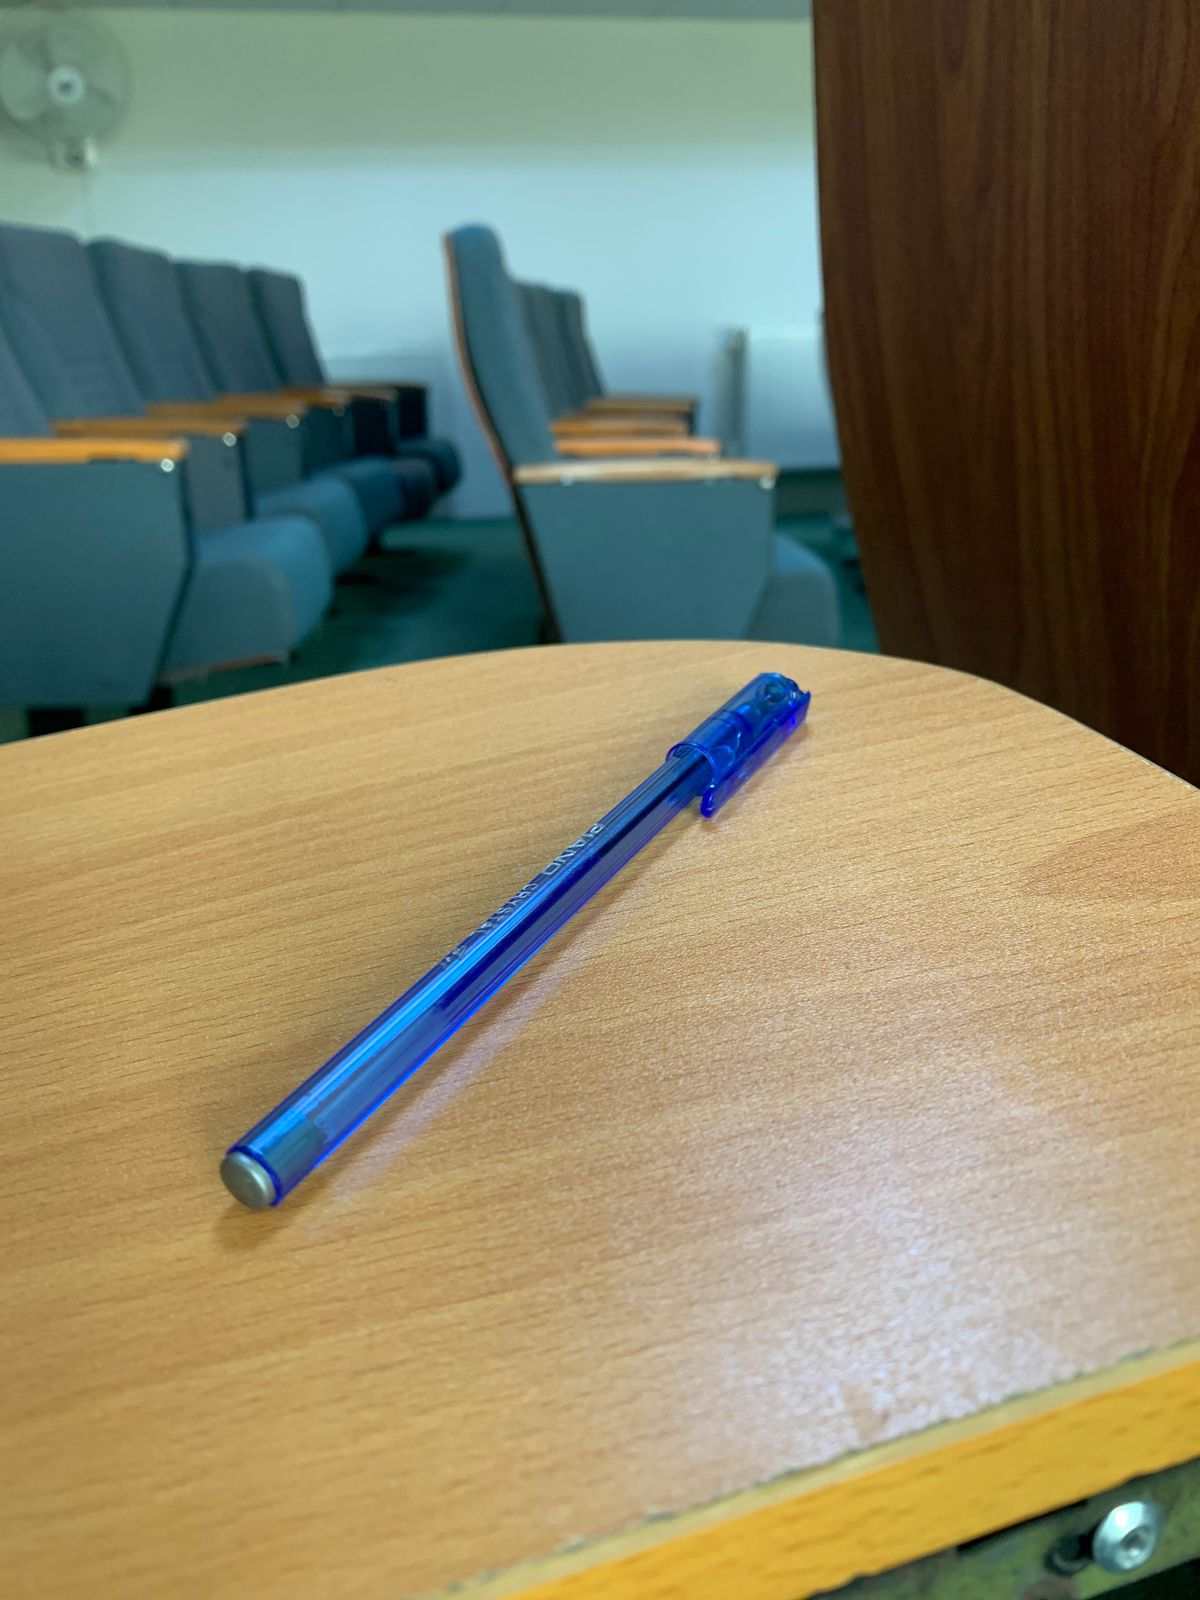pen: (93, 611, 874, 1330)
